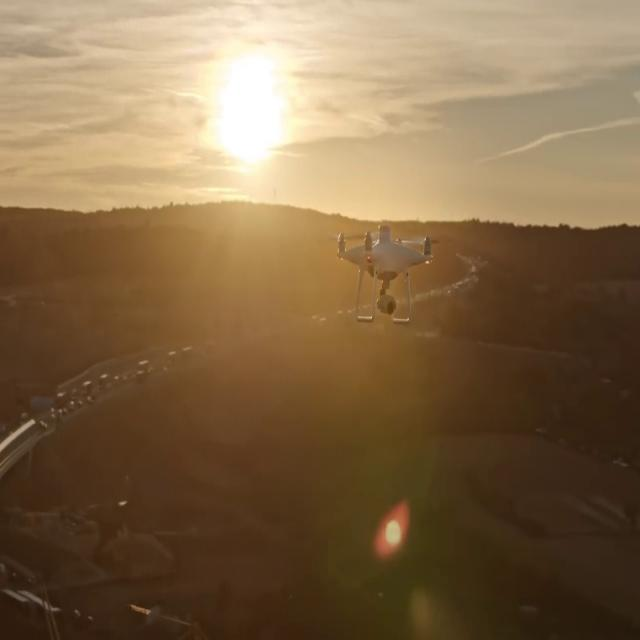drone: (322, 221, 444, 327)
